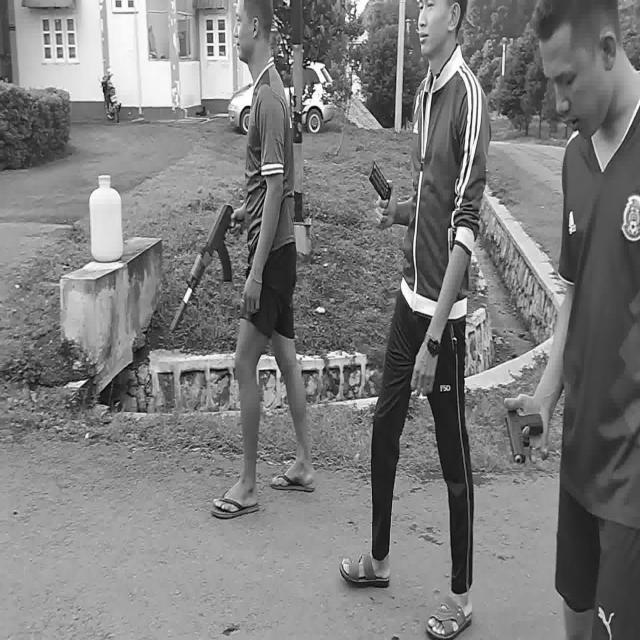gun: (171, 203, 245, 329), (506, 408, 542, 464)
